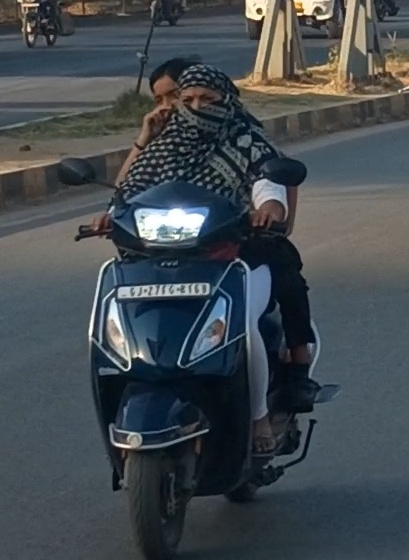BikeWithRider: (48, 52, 348, 559)
NoHelmet: (176, 61, 233, 136), (142, 56, 189, 115)
